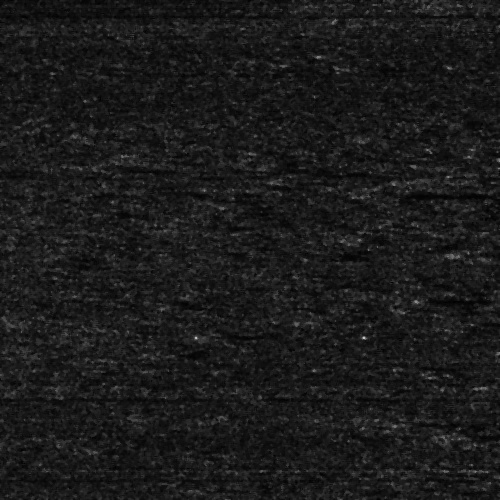object: (424, 430, 465, 439)
shadow: (444, 430, 500, 439)
